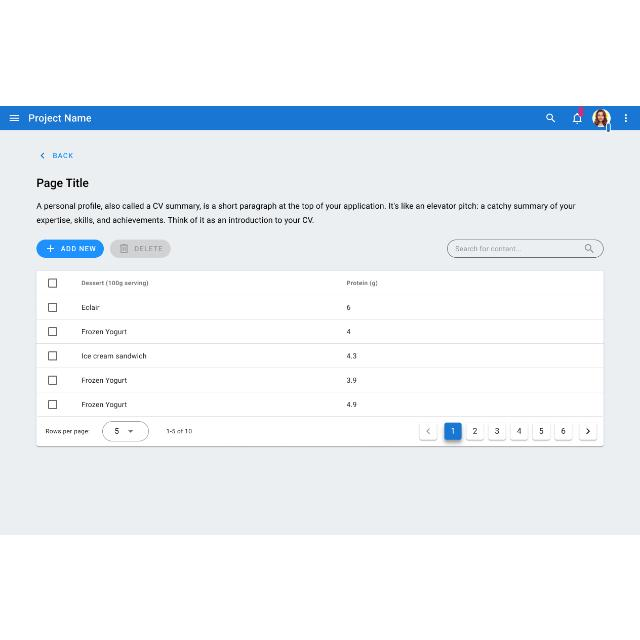QLabel: (35, 200, 577, 224), (28, 112, 92, 124), (35, 176, 89, 188), (59, 244, 96, 252), (51, 150, 75, 160), (133, 244, 163, 252)
VAppBar: (0, 105, 640, 129)
VBadge: (592, 109, 612, 128), (572, 106, 584, 124)
VBtn: (36, 238, 104, 258), (110, 238, 172, 258)
VDataTable: (36, 269, 604, 447)
VIcon: (544, 113, 560, 123), (118, 242, 130, 254), (8, 111, 20, 122), (38, 151, 46, 159), (46, 244, 54, 252), (624, 112, 628, 124)
VTextField: (447, 238, 605, 258)
